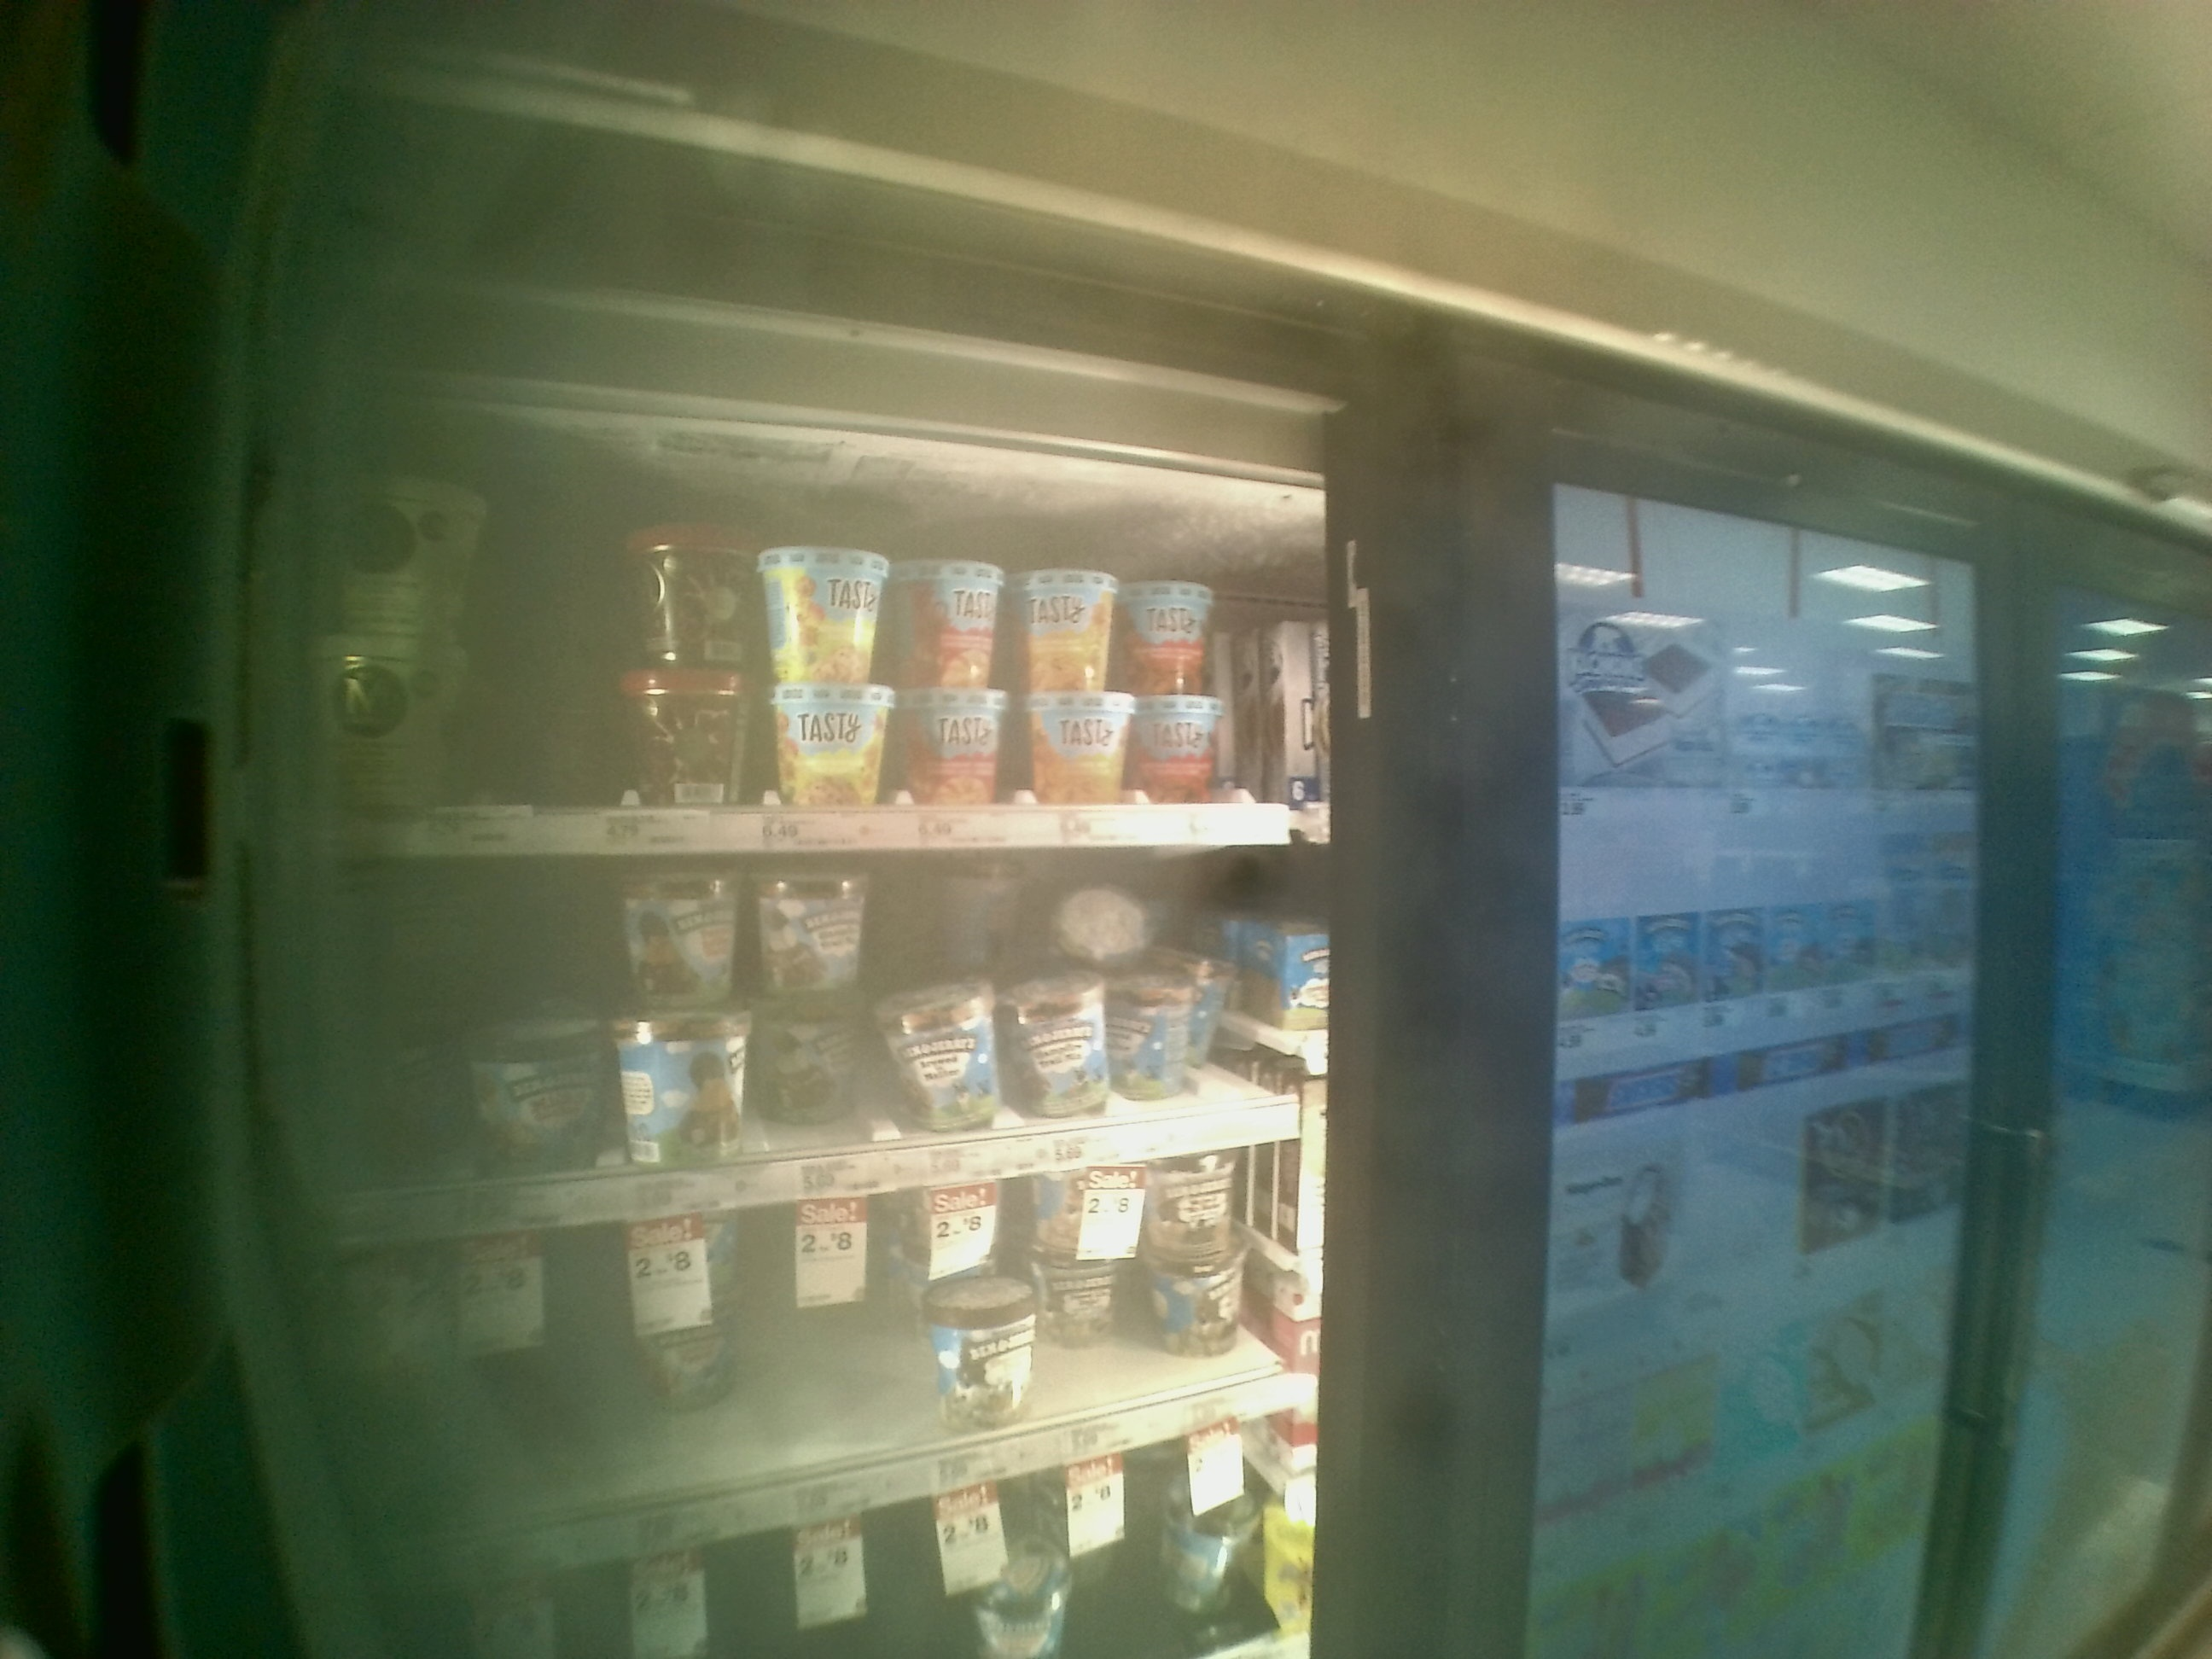shelf: (284, 408, 1327, 843), (279, 854, 1322, 1251)
